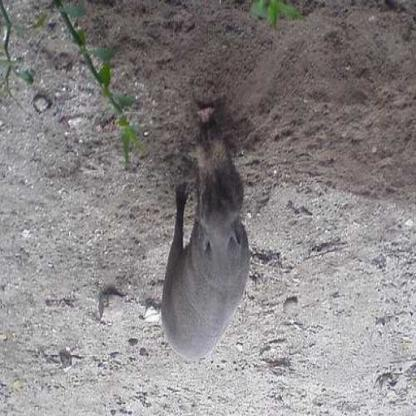boar: (149, 84, 297, 356)
